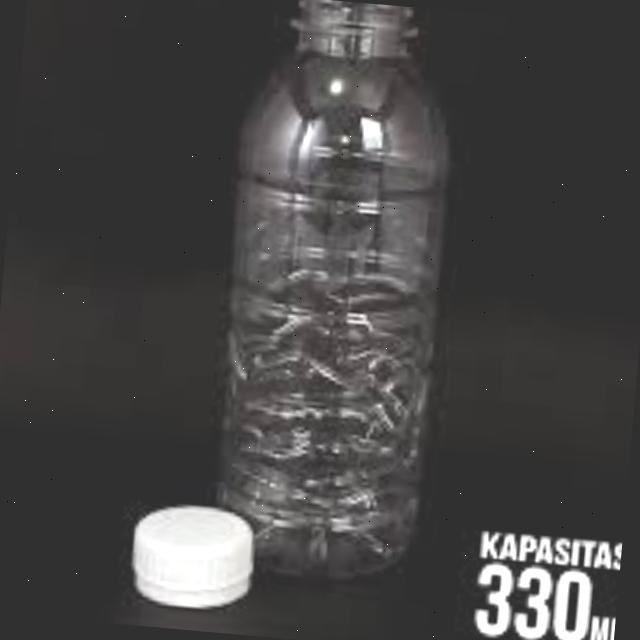trash: (183, 0, 491, 593)
